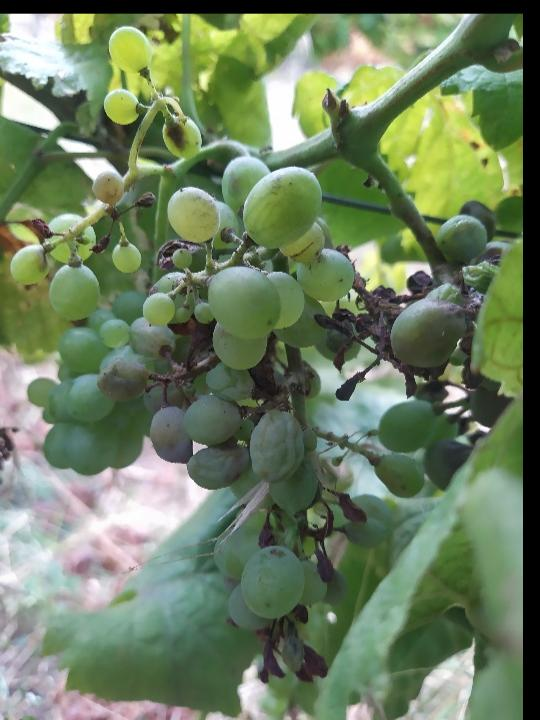grape: (93, 153, 487, 687)
